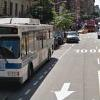Bus: (1, 13, 56, 84)
